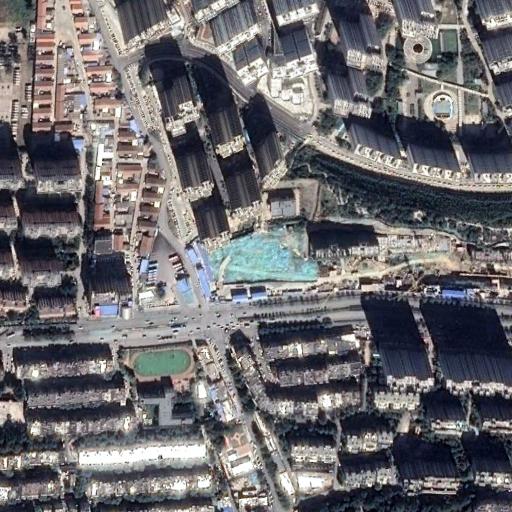cw: (202, 230, 319, 282)
